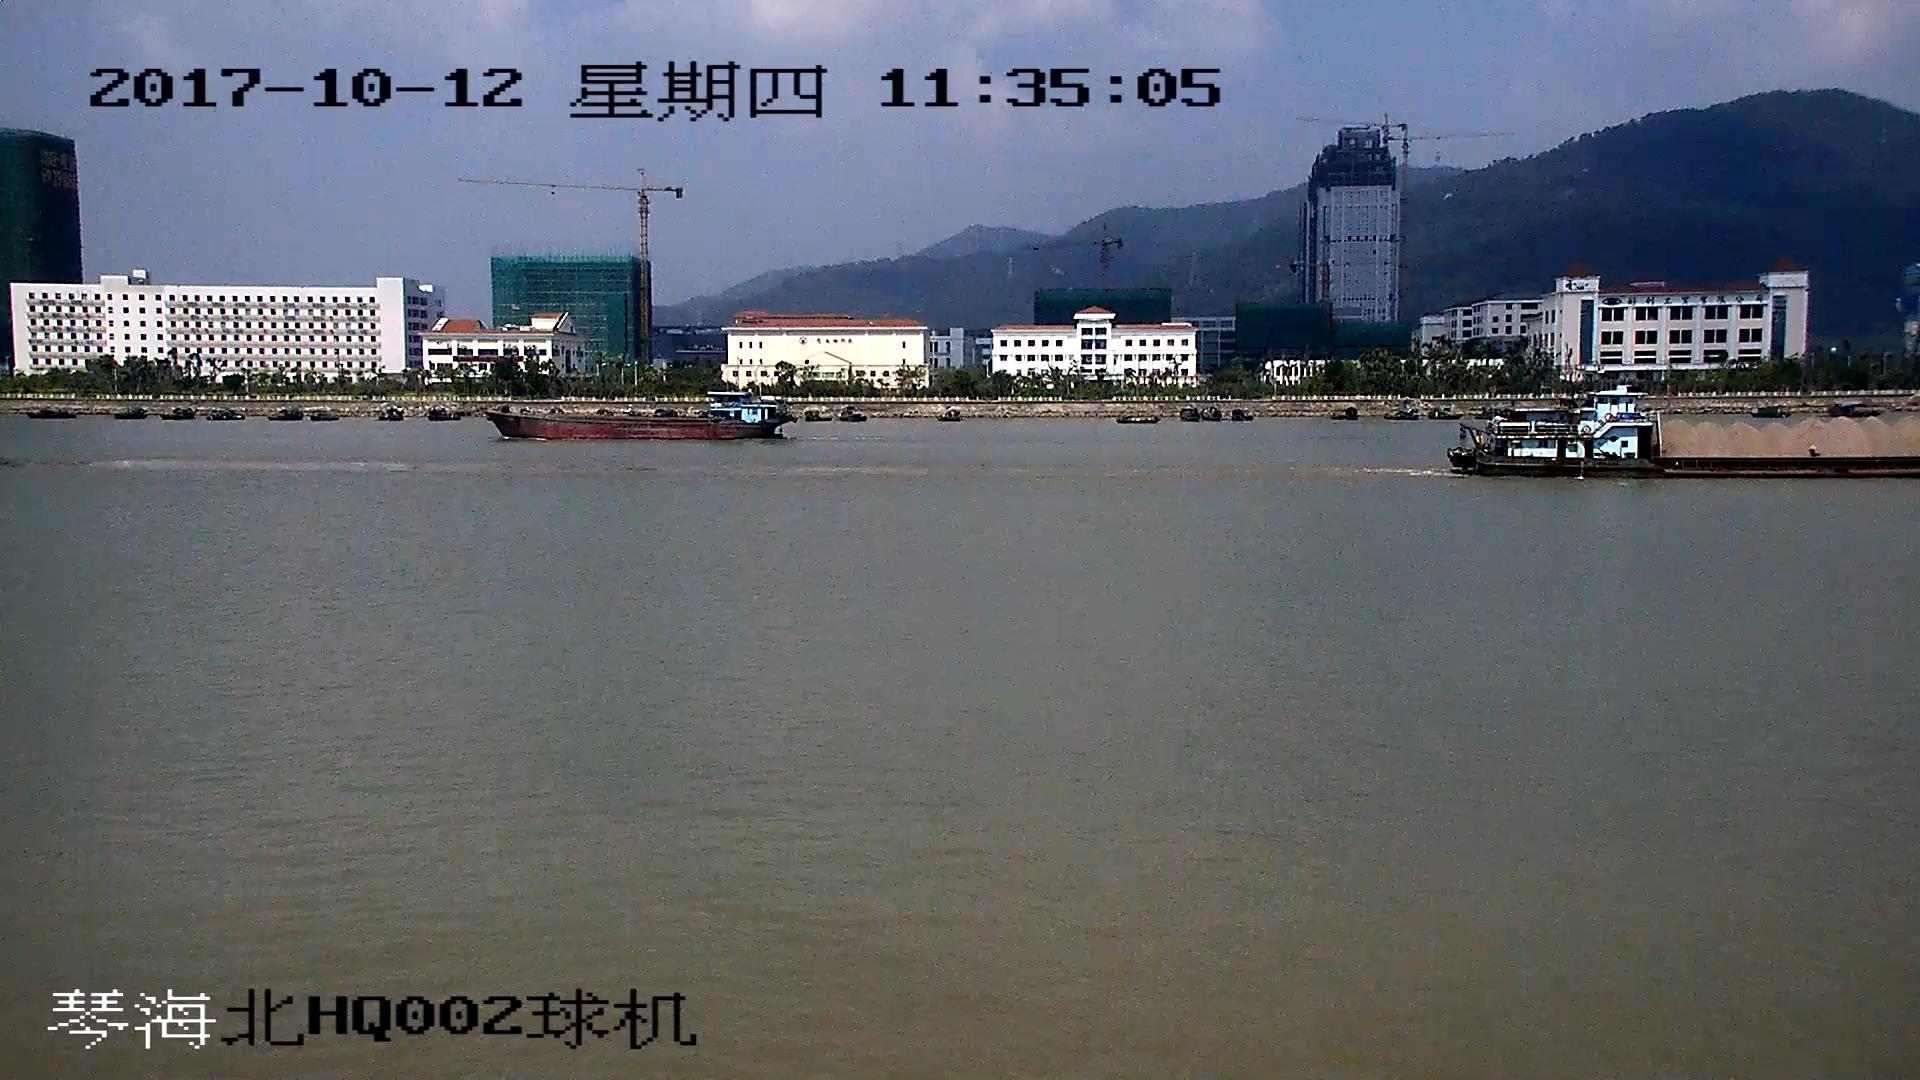bulk cargo carrier: (484, 394, 791, 440)
ore carrier: (1449, 396, 1920, 478)
